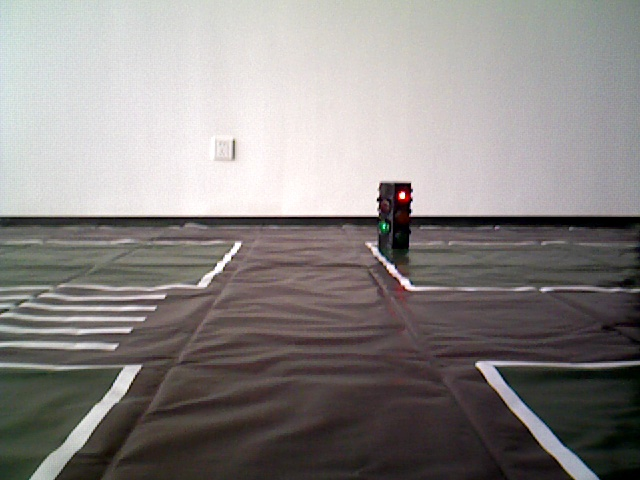red: (379, 183, 411, 258)
